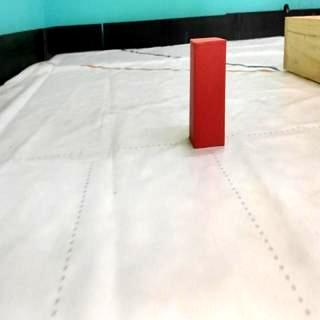redbox: (188, 36, 228, 151)
